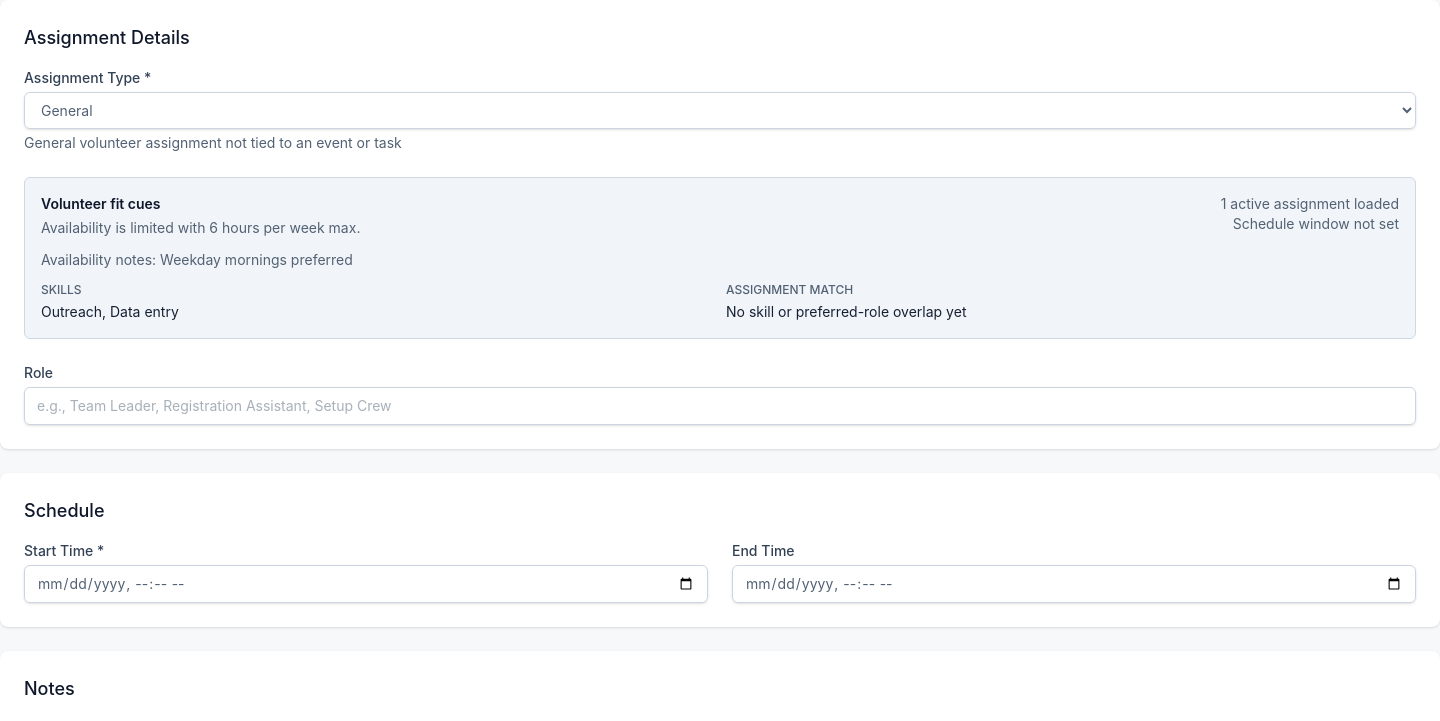
AssignmentForm › Create Mode › shows volunteer availability and skill-fit cues beside the picker
expect the text "Availability is limited with 6 hours per week max." is shown: met, box [41,218,360,238]
expect the text "Availability notes: Weekday mornings preferred" is shown: met, box [41,251,353,268]
Select "Event" in the dropdown labelled "Assignment Type *" at [720, 110], box [24,92,1416,129]
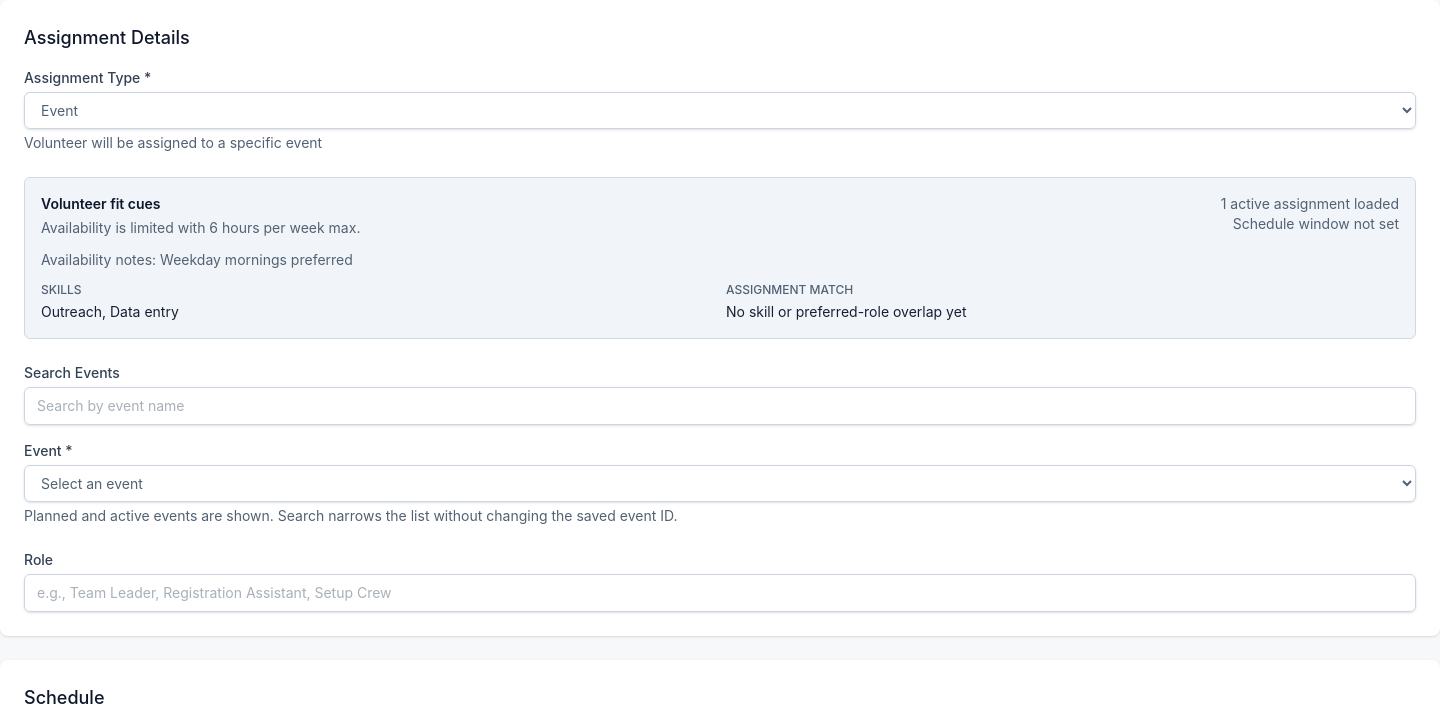
Select "Spring Outreach - 5/10/2026 - Main Hall - volunteer" in the dropdown labelled "Event *" at [720, 484], box [24,465,1416,502]
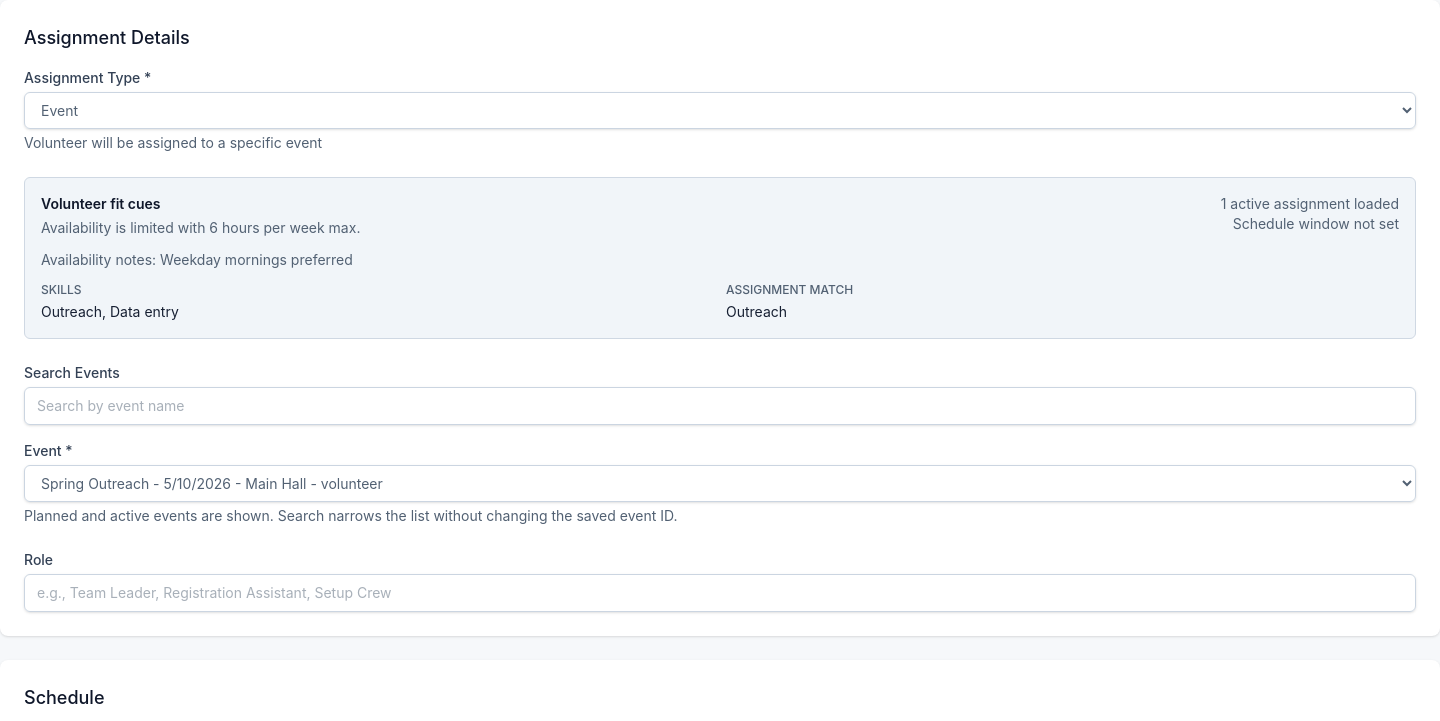
expect the text "Outreach" is shown: met, box [726,303,787,320]
